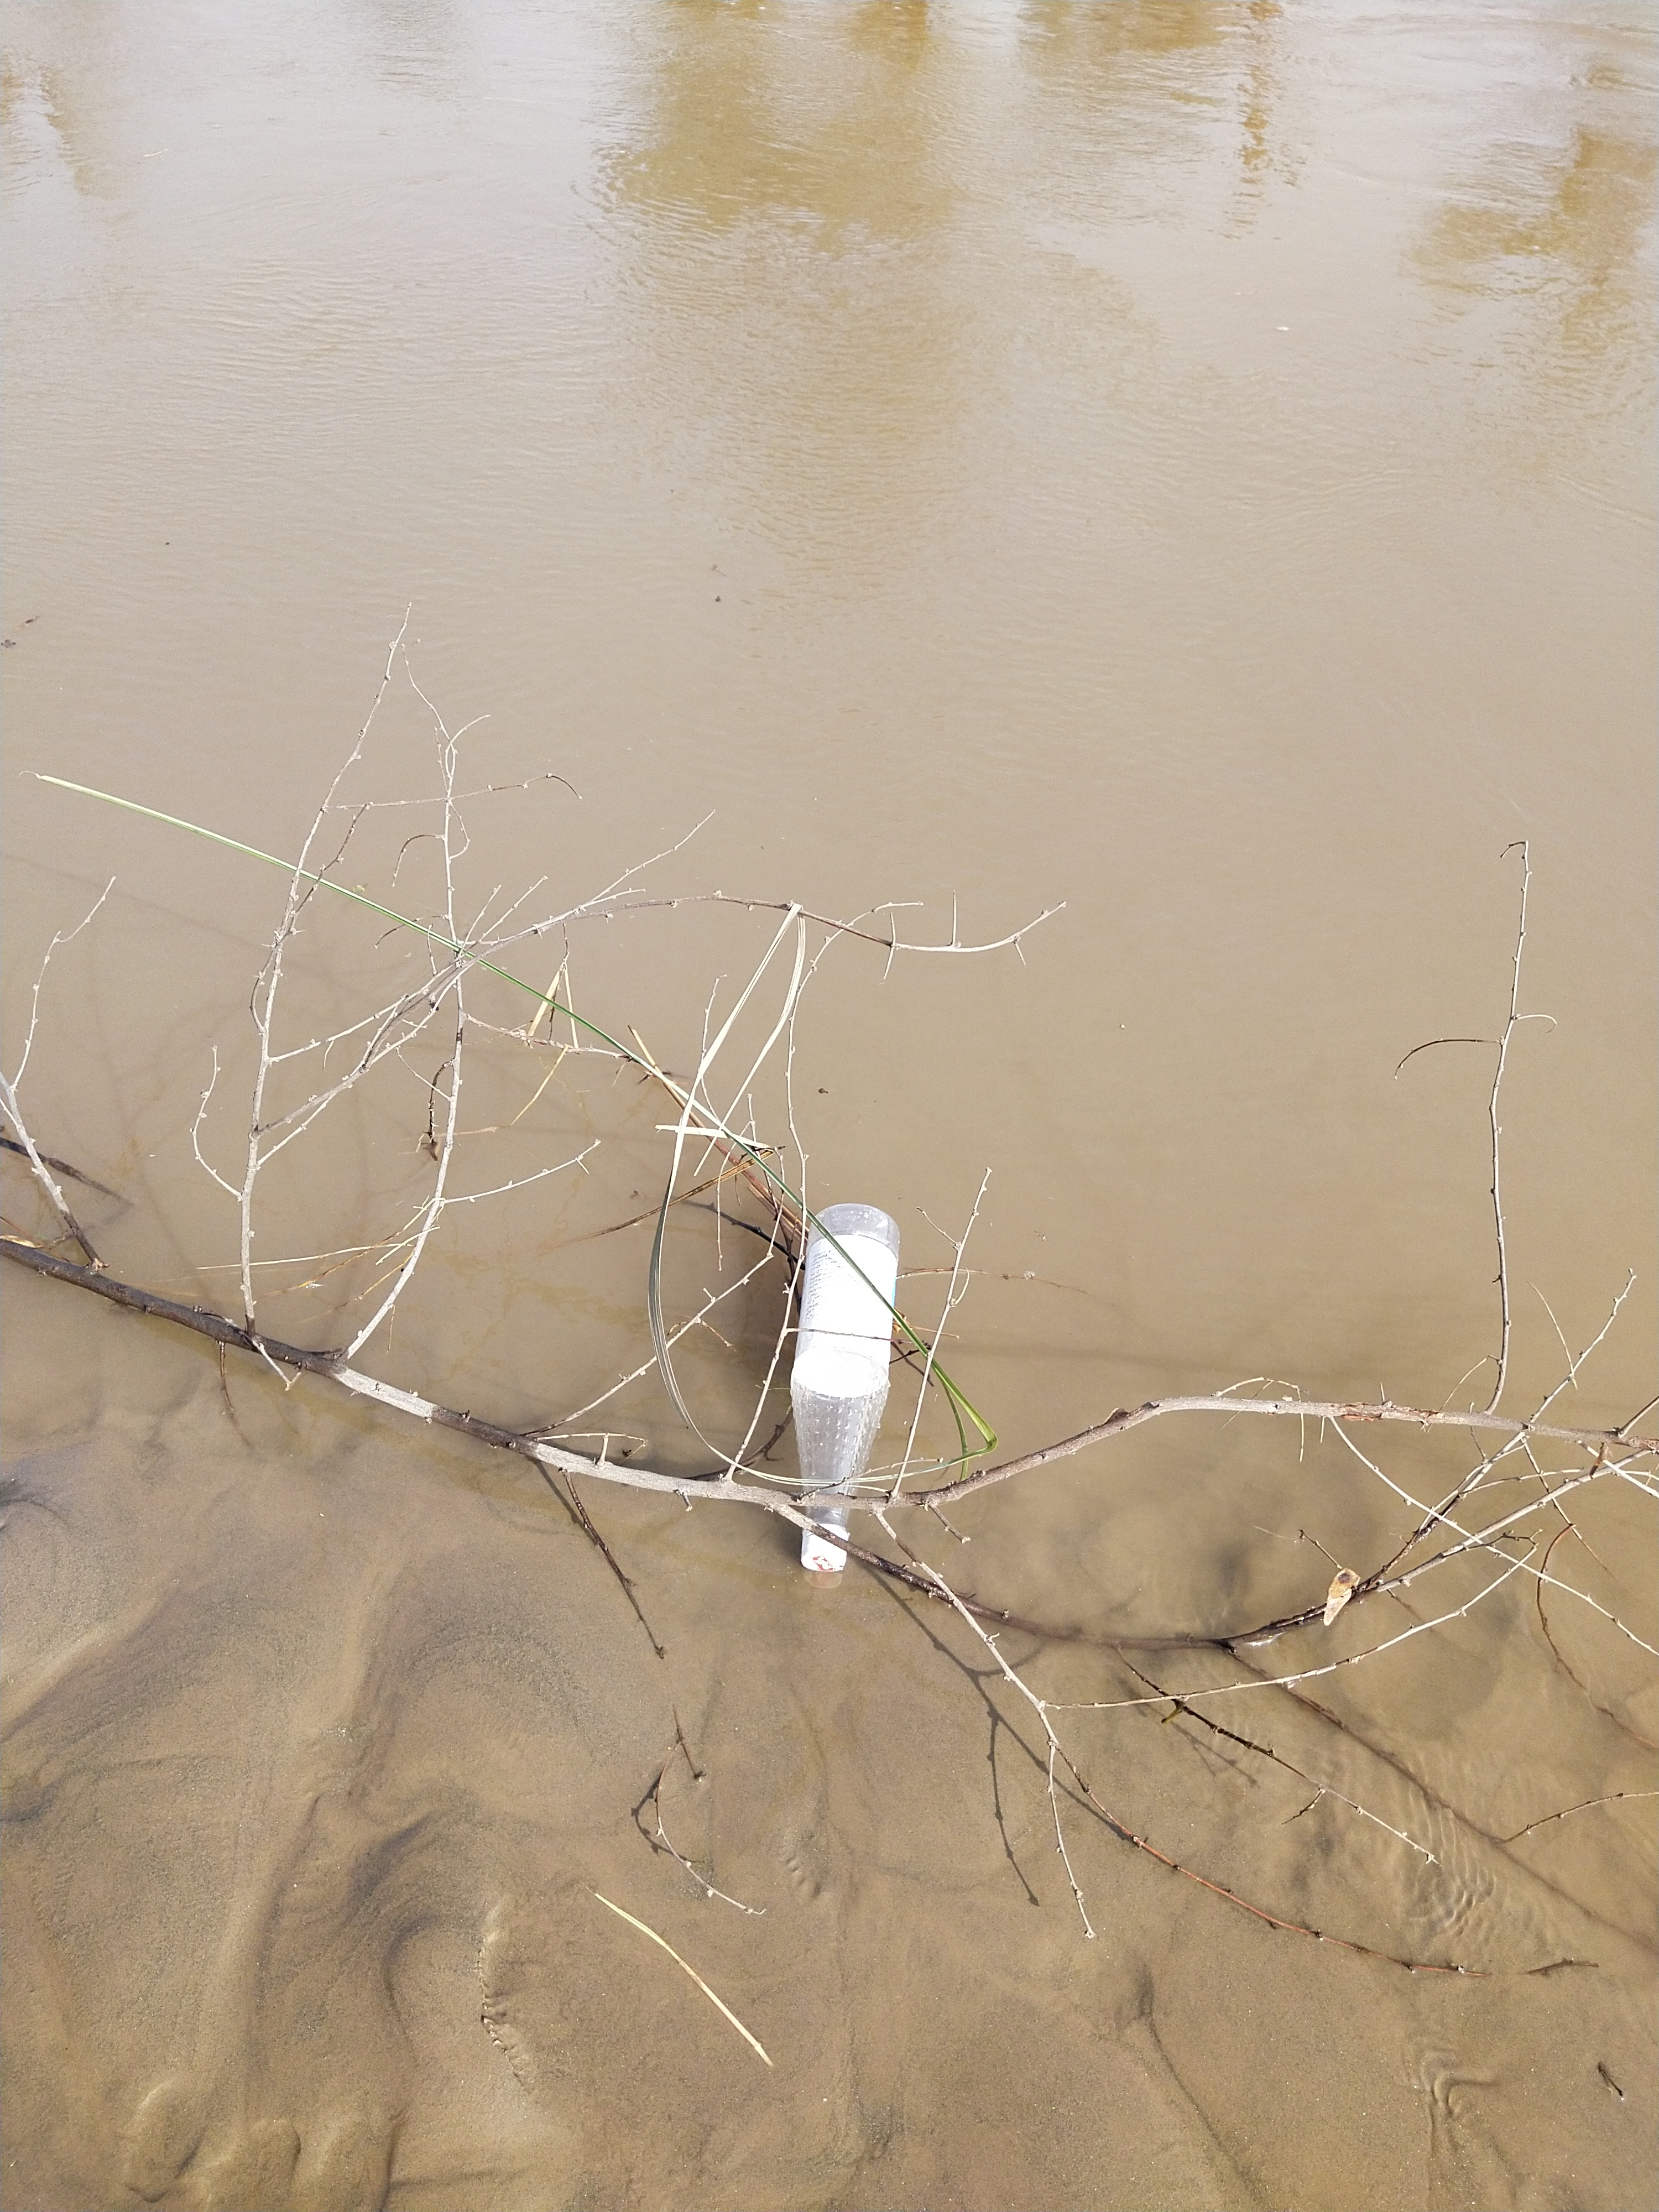Plastic Bottle: (789, 1202, 899, 1573)
